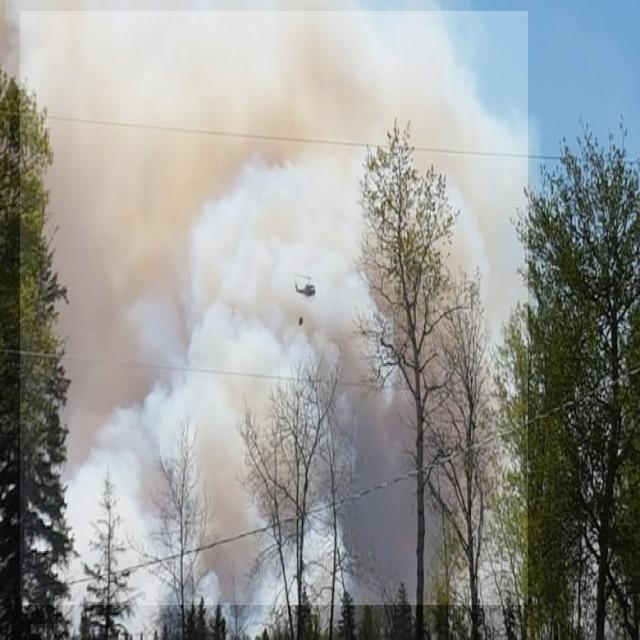Smoke: (20, 11, 528, 605)
